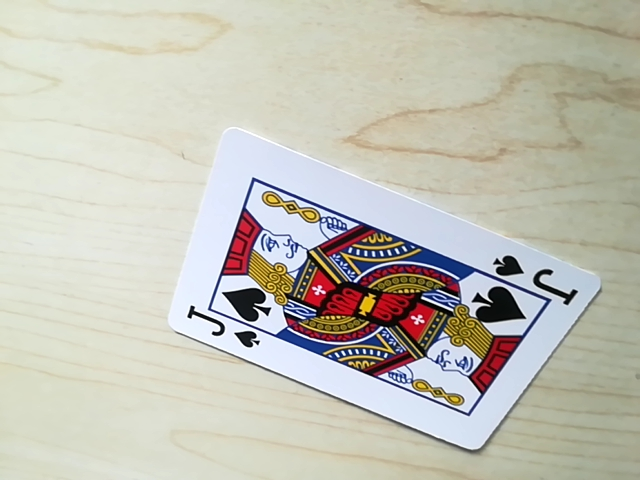ht j: (483, 249, 574, 292), (181, 314, 261, 351)
